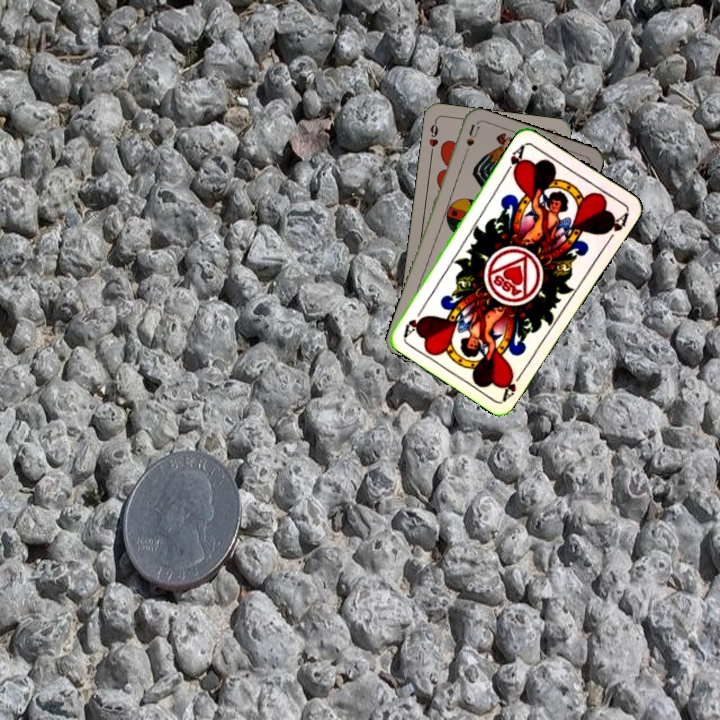H9: (425, 117, 441, 158)
HA: (498, 366, 527, 403), (501, 140, 528, 178)
SU: (459, 121, 482, 161)
